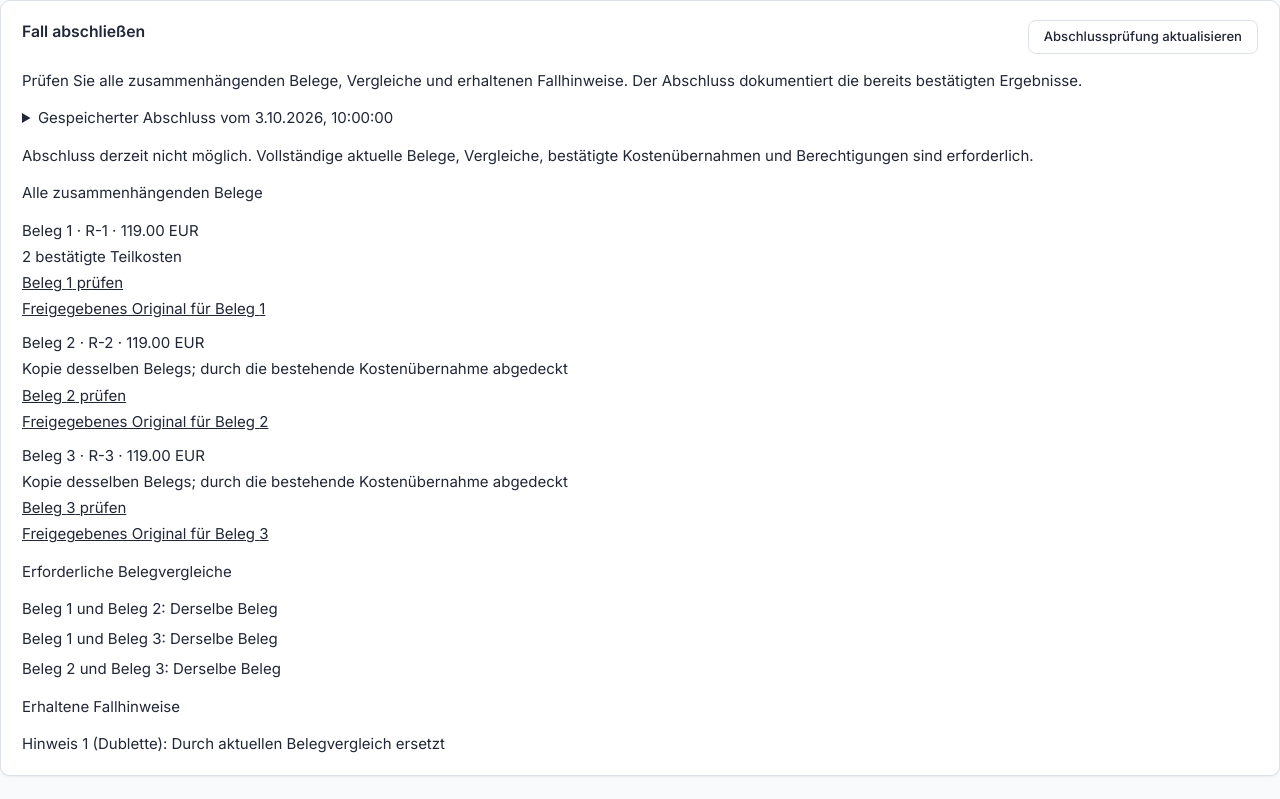
Test: shows a historical receipt without declaring the reopened case completed
Expected: the button "Abschlussprüfung aktualisieren" is enabled, [1028,20,1258,54]
Click the heading "Gespeicherter Abschluss vom 3.10.2026, 10:00:00": click(216, 118) [38,108,393,127]
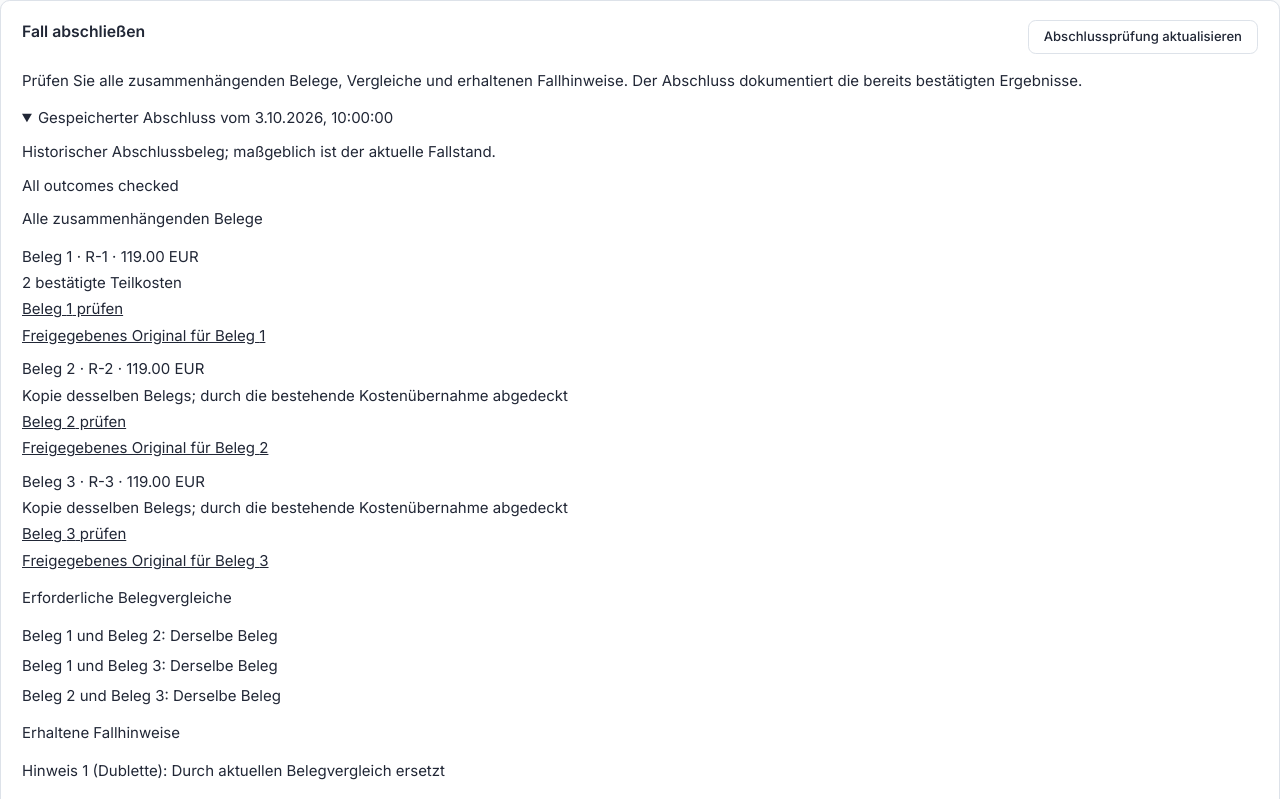
Expected: the text "Historischer Abschlussbeleg; maßgeblich" is shown, [22,142,496,161]
